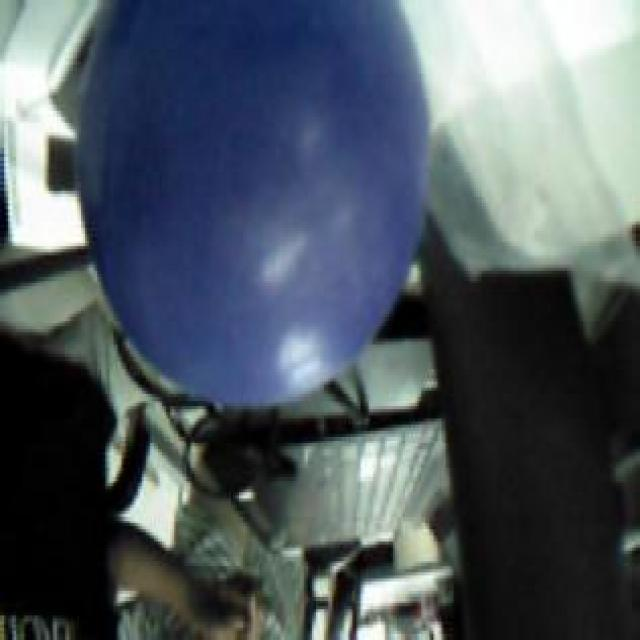BallPurple: (75, 0, 429, 404)
